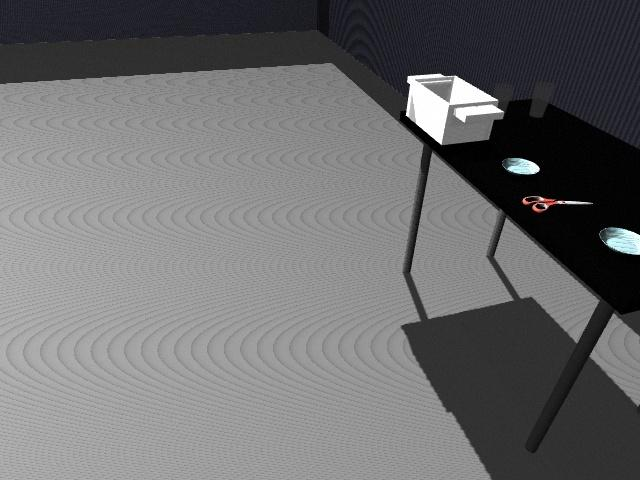cup: (529, 82, 555, 119), (492, 82, 515, 115)
plate: (597, 227, 640, 254), (501, 158, 539, 175)
scissors: (523, 195, 590, 213)
